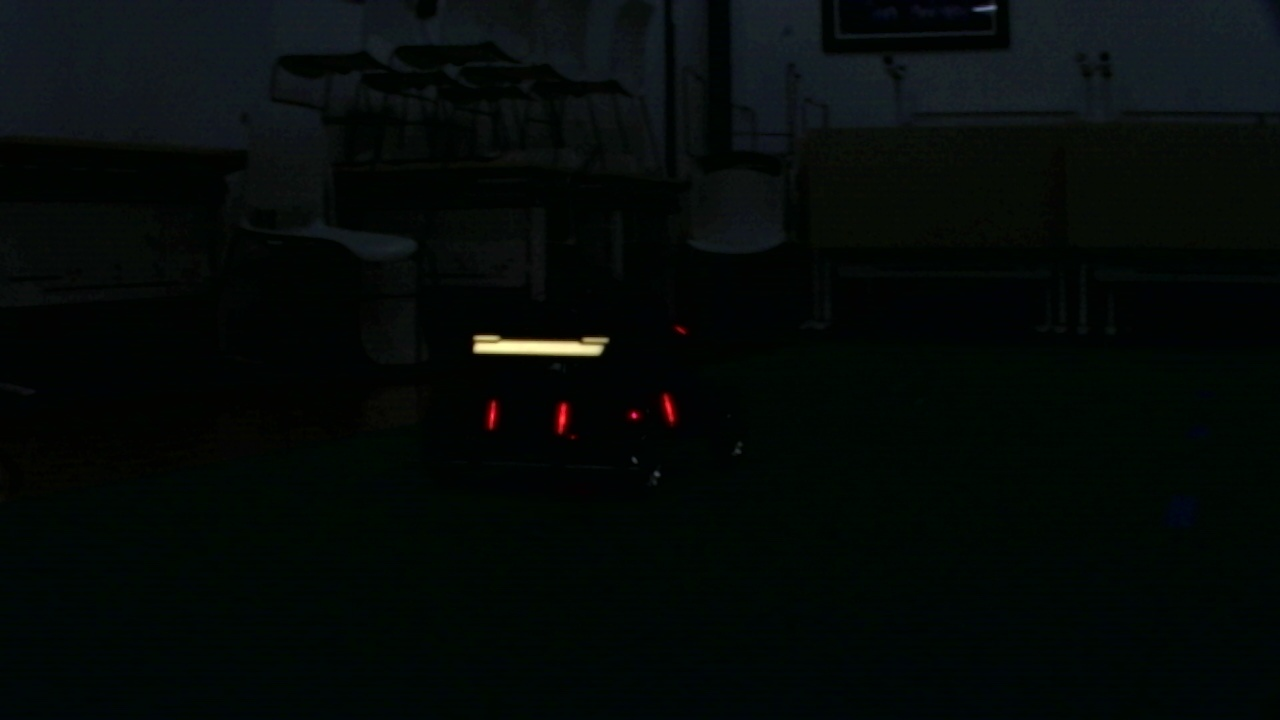lamp: (483, 397, 500, 430), (657, 393, 675, 424), (555, 406, 569, 435)
pair1: (484, 398, 566, 434)
